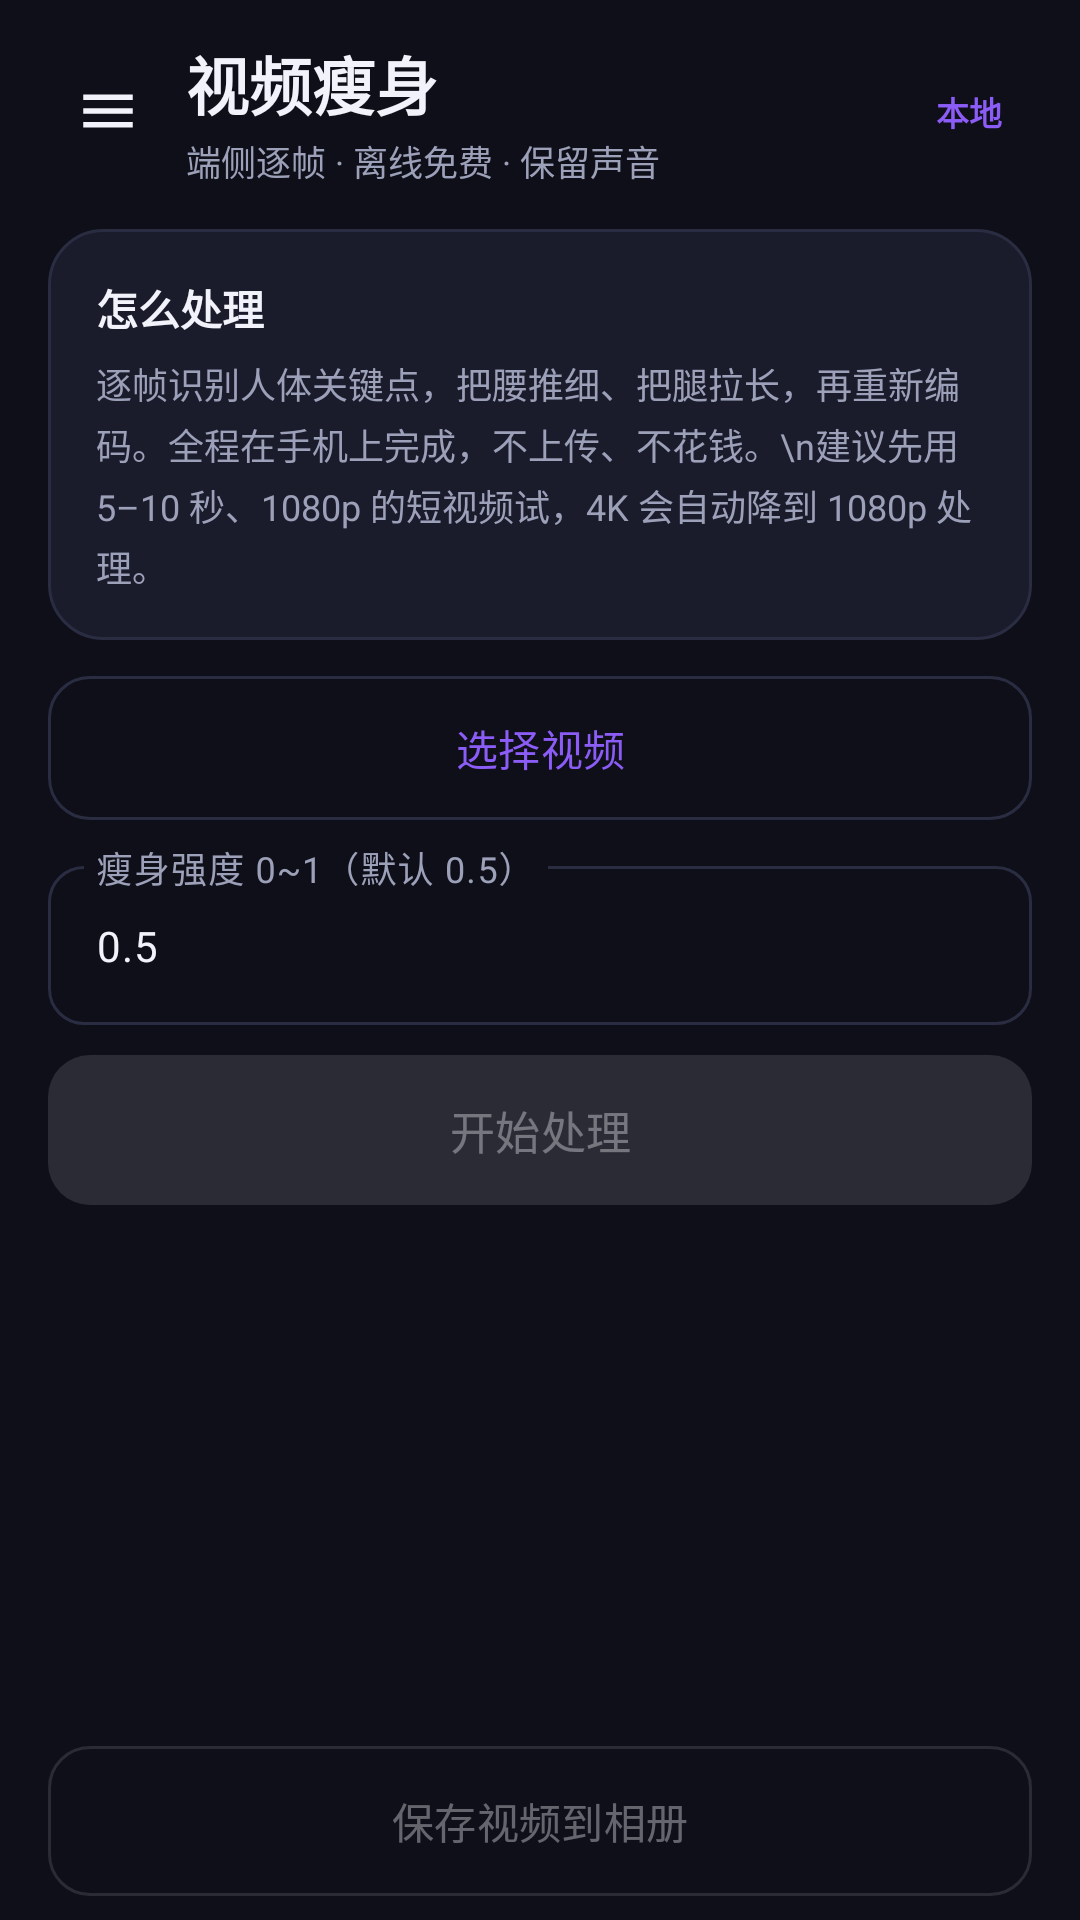

Locate icon controls on the screen. Image size 1080 x 1920, boxes as (x1, y1, x2, y2).
菜单: (83, 94, 133, 128)
